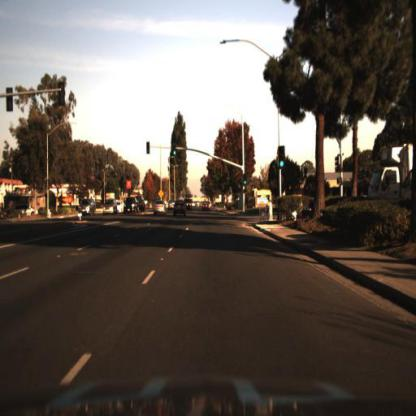car: (102, 195, 122, 217), (124, 194, 140, 219), (119, 194, 138, 215), (151, 197, 169, 219), (172, 198, 190, 220), (75, 198, 95, 217), (15, 205, 41, 219), (201, 196, 213, 215), (181, 196, 193, 214)
pedestrian: (267, 196, 278, 226)
trafficLight-Green: (278, 144, 287, 171), (278, 146, 288, 170), (171, 143, 179, 160), (243, 172, 249, 188), (173, 142, 178, 160), (243, 174, 249, 188)
trafficLight-GreenLeft: (146, 140, 152, 159), (147, 139, 152, 160)
